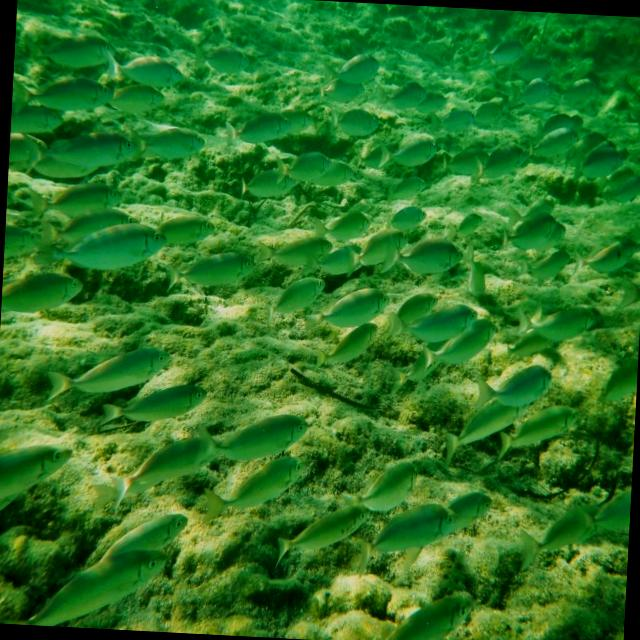Sokar Baligi: (35, 326, 176, 412), (26, 208, 174, 286), (346, 488, 462, 582), (465, 354, 554, 420)
